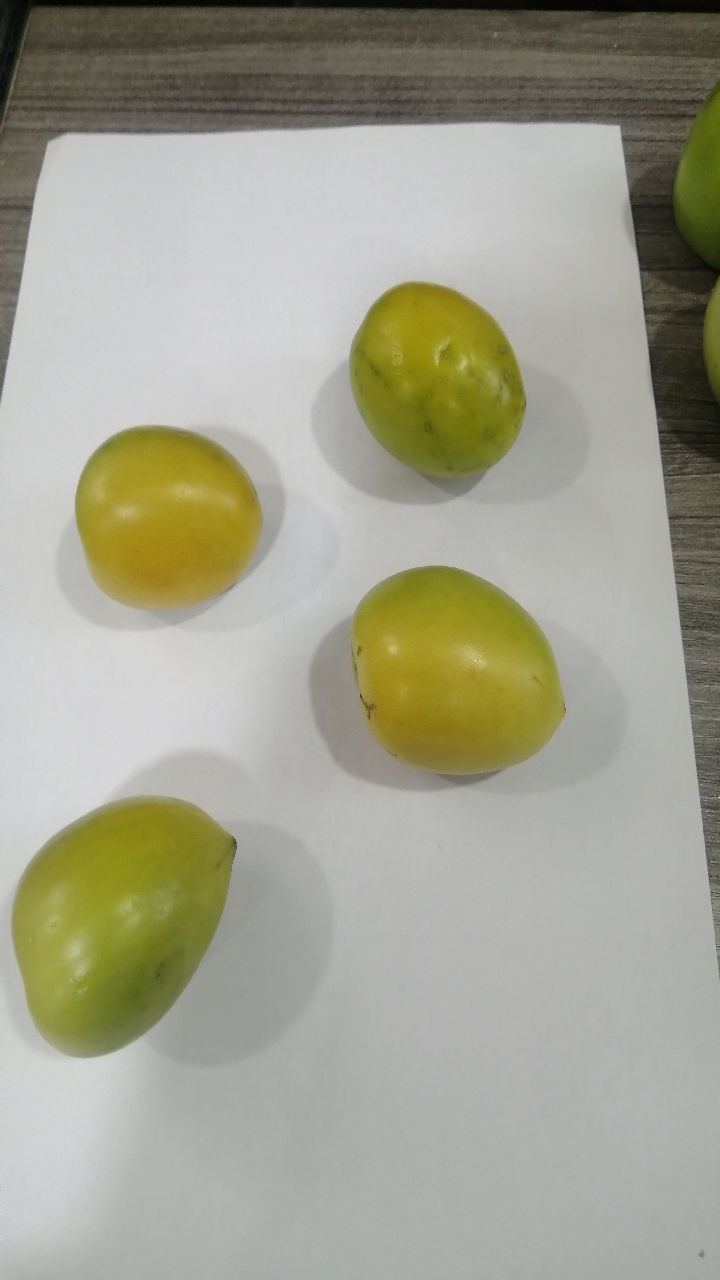tomateVerde: (1, 748, 254, 1074), (320, 549, 591, 785), (329, 246, 552, 514), (57, 397, 278, 640)
